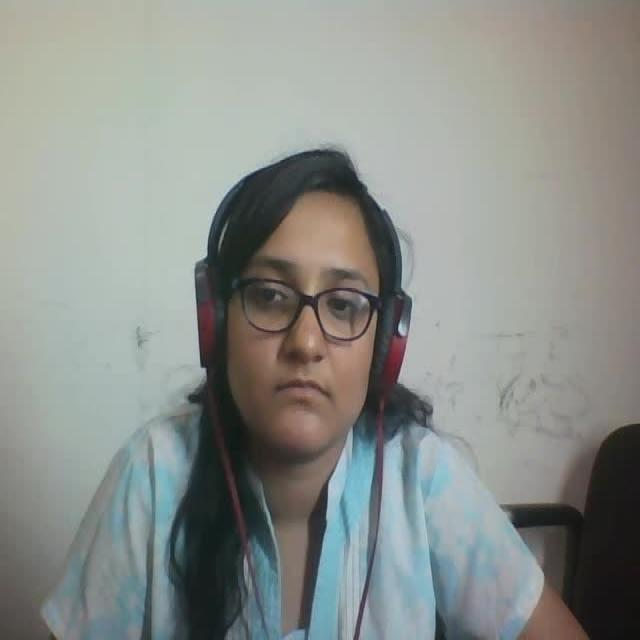Bored: (163, 97, 434, 482)
